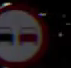No overtake: (0, 4, 51, 64)
